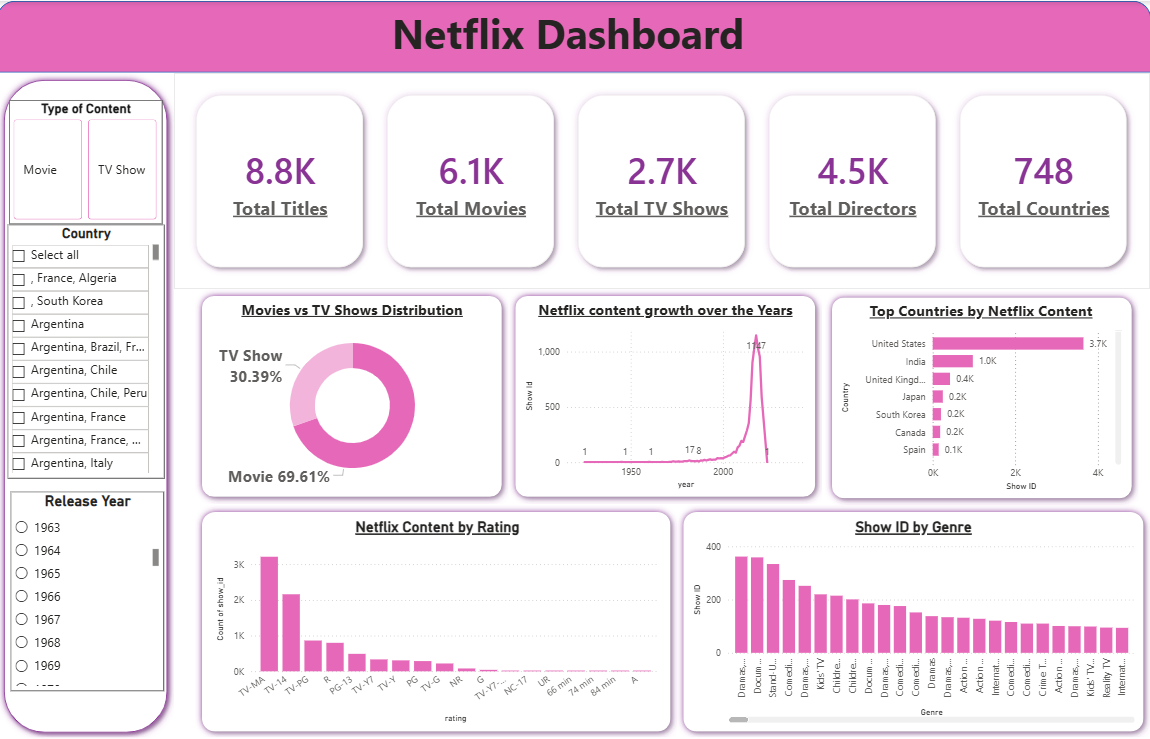

The page's visual inventory and layout, read from the dashboard file:
{"tool":"powerbi","page":{"name":"Page 1","canvas":[1500,960],"ordinal":0},"visuals":[{"type":"cardVisual","fields":{"Data":["netflix_db netflix.Total Titles","netflix_db netflix.Total Movies","netflix_db netflix.Total TV Shows","netflix_db netflix.Total Directors","netflix_db netflix.Total Countries"]},"box":[230.3,93,1269,281.3],"z":0},{"type":"shape","box":[0,0,1499.3,93],"z":1000},{"type":"textbox","box":[0,0,1483.8,93],"z":2000},{"type":"shape","box":[256.9,374.3,407.5,279],"z":3000},{"type":"donutChart","title":"Movies vs TV Shows Distribution","fields":{"Category":["netflix_db netflix.type"],"Y":["CountNonNull(netflix_db netflix.show_id)"]},"box":[279,387.6,365.4,250.2],"z":4000},{"type":"shape","box":[1076.3,376.5,407.5,279],"z":5000},{"type":"shape","box":[664.4,374.3,407.5,279],"z":6000},{"type":"lineChart","title":"Netflix content growth over the Years","fields":{"Category":["netflix_db netflix.release_year"],"Y":["CountNonNull(netflix_db netflix.show_id)"]},"box":[679.9,387.6,376.5,250.2],"z":6001},{"type":"clusteredBarChart","title":"Top Countries by Netflix Content","fields":{"Category":["netflix_db netflix.country"],"Y":["CountNonNull(netflix_db netflix.show_id)"]},"box":[1091.8,389.8,374.3,250.2],"z":6002},{"type":"shape","box":[0,93,230.3,865.9],"z":6003},{"type":"advancedSlicerVisual","fields":{"Values":["netflix_db netflix.type"]},"box":[15.5,128.4,199.3,161.7],"z":6004},{"type":"listSlicer","title":"Country","fields":{"Values":["netflix_db netflix.country"]},"box":[13.3,290.1,203.7,330],"z":6005},{"type":"listSlicer","title":"Release Year","fields":{"Values":["netflix_db netflix.release_year"]},"box":[17.7,637.8,199.3,259.1],"z":6006},{"type":"shape","box":[883.6,655.5,615.7,303.4],"z":6008},{"type":"shape","box":[256.9,655.5,626.7,303.4],"z":6009},{"type":"clusteredColumnChart","title":"Netflix Content by Rating","fields":{"Category":["netflix_db netflix.rating"],"Y":["CountNonNull(netflix_db netflix.show_id)"]},"box":[279,673.2,586.9,270.2],"z":6010},{"type":"clusteredColumnChart","fields":{"Category":["netflix_db netflix.listed_in"],"Y":["CountNonNull(netflix_db netflix.show_id)"]},"box":[899.1,673.2,584.7,270.2],"z":6011}]}

Visuals, with their boxes in screenshot pixels (x1, y1, x2, y2), scaled from the page's 1500x960 canvas onto the 1150x739 screenshot:
cardVisual - netflix_db netflix.Total Titles x netflix_db netflix.Total Movies: bbox=(177, 72, 1149, 288)
shape: bbox=(0, 0, 1149, 72)
textbox: bbox=(0, 0, 1138, 72)
shape: bbox=(197, 288, 509, 503)
"Movies vs TV Shows Distribution" donutChart: bbox=(214, 298, 494, 491)
shape: bbox=(825, 290, 1138, 505)
shape: bbox=(509, 288, 822, 503)
"Netflix content growth over the Years" lineChart: bbox=(521, 298, 810, 491)
"Top Countries by Netflix Content" clusteredBarChart: bbox=(837, 300, 1124, 493)
shape: bbox=(0, 72, 177, 738)
advancedSlicerVisual - netflix_db netflix.type: bbox=(12, 99, 165, 223)
"Country" listSlicer: bbox=(10, 223, 166, 477)
"Release Year" listSlicer: bbox=(14, 491, 166, 690)
shape: bbox=(677, 505, 1149, 738)
shape: bbox=(197, 505, 677, 738)
"Netflix Content by Rating" clusteredColumnChart: bbox=(214, 518, 664, 726)
clusteredColumnChart - netflix_db netflix.listed_in x CountNonNull(netflix_db netflix.show_id): bbox=(689, 518, 1138, 726)
